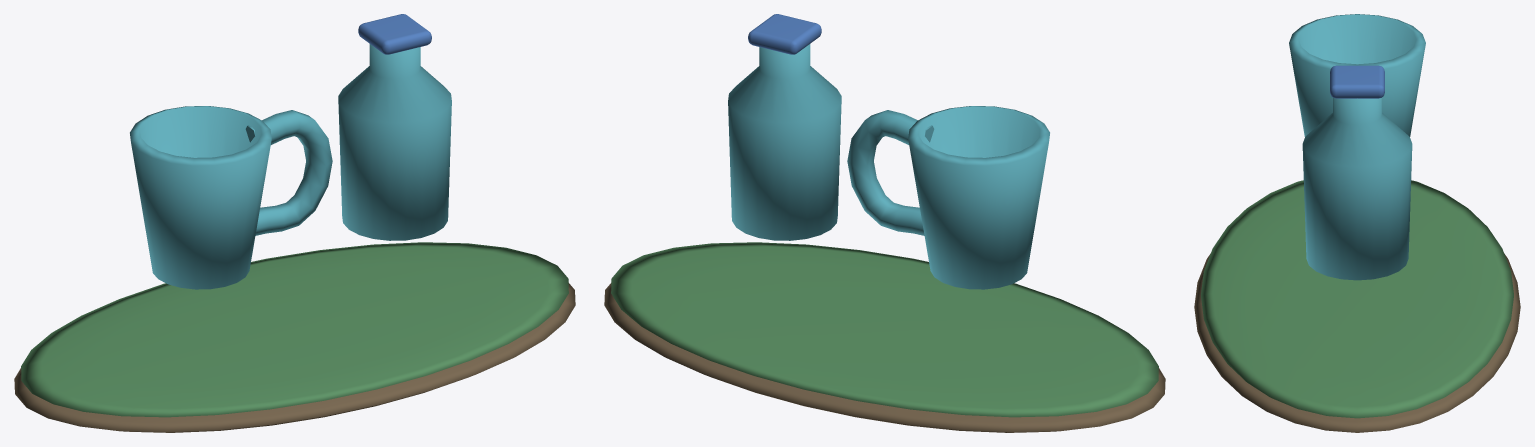
File: beer-mug.glb
3 renders of one model, left to right at view 1: azimuth 30°, elevation 25°; view 2: azimuth 150°, elevation 25°; view 3: azimuth 270°, elevation 25°, orthographic. The views are drawn at different scales.
Parts seen in each view (by area): view 1: beer-mug_surface_01, beer-mug_surface_02, beer-mug_surface_00, beer-mug_surface_03; view 2: beer-mug_surface_01, beer-mug_surface_02, beer-mug_surface_00, beer-mug_surface_03; view 3: beer-mug_surface_01, beer-mug_surface_02, beer-mug_surface_00, beer-mug_surface_03.
Boxes of the visible parts, x1=… form: beer-mug_surface_01: x1=21, y1=242, x2=568, y2=417; beer-mug_surface_02: x1=130, y1=44, x2=451, y2=289; beer-mug_surface_00: x1=14, y1=283, x2=575, y2=432; beer-mug_surface_03: x1=358, y1=14, x2=431, y2=54; beer-mug_surface_01: x1=611, y1=242, x2=1158, y2=417; beer-mug_surface_02: x1=728, y1=44, x2=1049, y2=289; beer-mug_surface_00: x1=604, y1=283, x2=1165, y2=432; beer-mug_surface_03: x1=748, y1=14, x2=821, y2=54; beer-mug_surface_01: x1=1201, y1=180, x2=1513, y2=418; beer-mug_surface_02: x1=1289, y1=14, x2=1425, y2=280; beer-mug_surface_00: x1=1194, y1=253, x2=1520, y2=432; beer-mug_surface_03: x1=1330, y1=65, x2=1384, y2=98.
Bounding box in the file's own units: 4.56 × 2.49 × 2.5.
